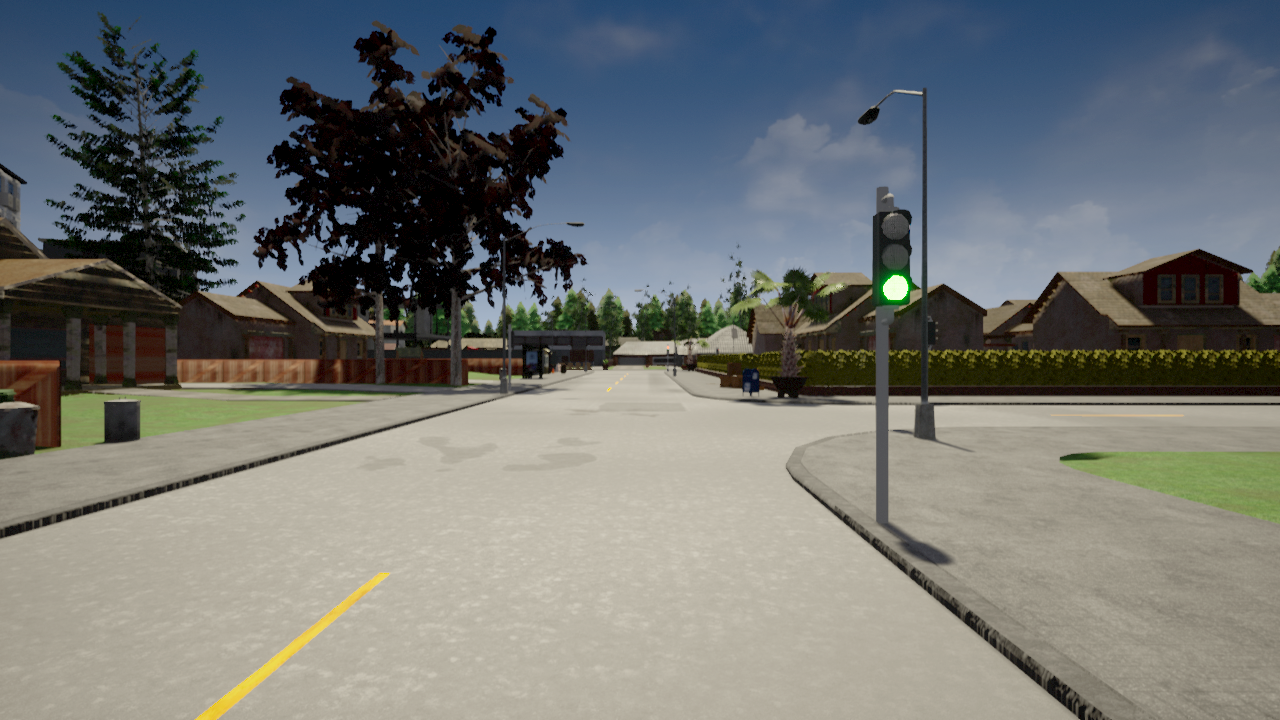green: (868, 207, 913, 308)
